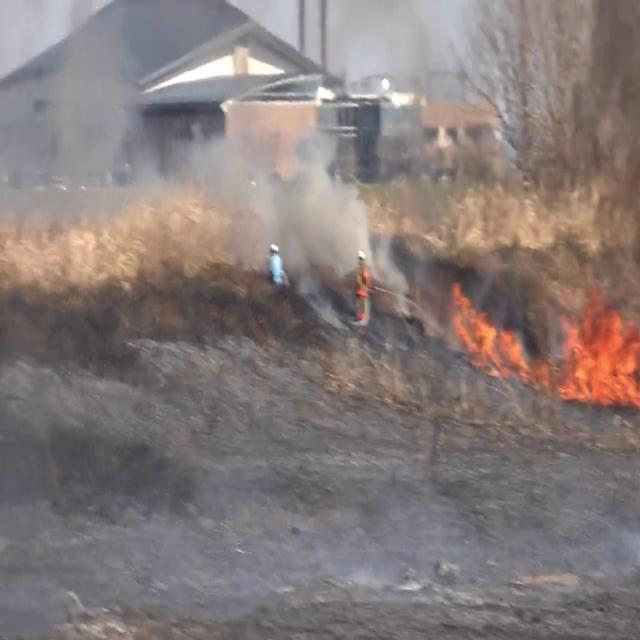Fire: (445, 290, 640, 413)
Smoke: (2, 14, 384, 308)
